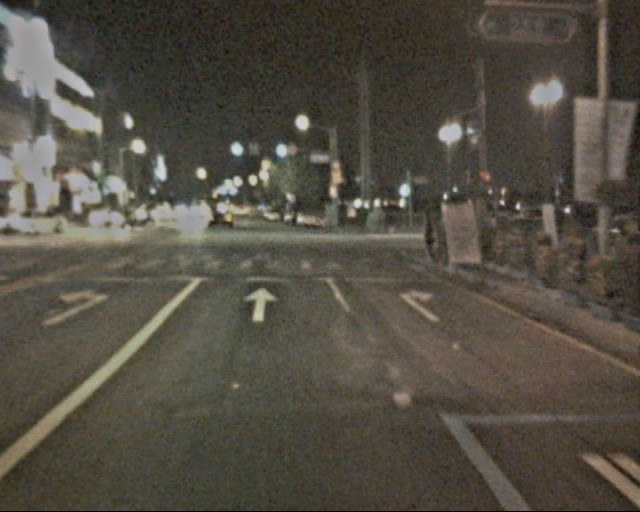person: (419, 210, 441, 267)
